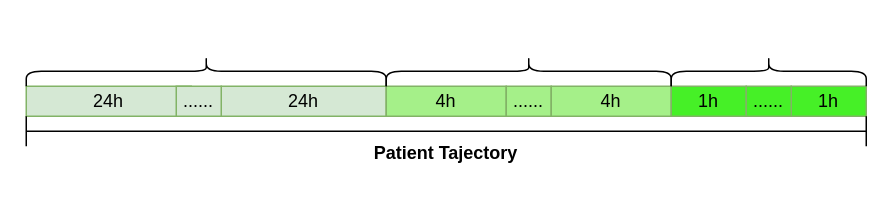
Image size: 893x201. Some labels were removed from this diagram. Here are the shapes that lost their labels. From the top down, the box of each, then its label:
(25, 55, 386, 86): Far 24
(385, 55, 671, 86): Middle 4
(670, 55, 866, 86): Near 1
